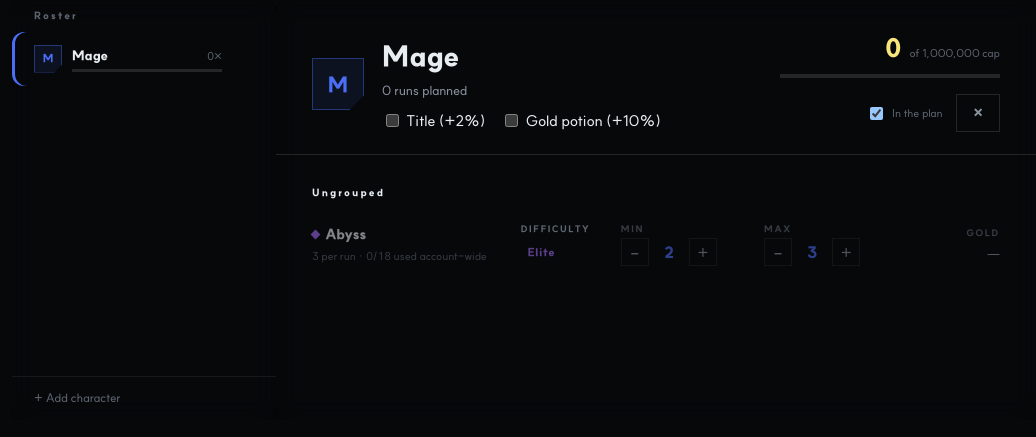
Test: QuestLog cells › shows the new difficulty before the write lands
This screenshot has width=1036, height=437.
What coordinates should you click on to do the following:
click the button with aria-label "Mage tier in Abyss"
I would click on:
 (553, 253)
Its box is x1=521 y1=239 x2=585 y2=266.
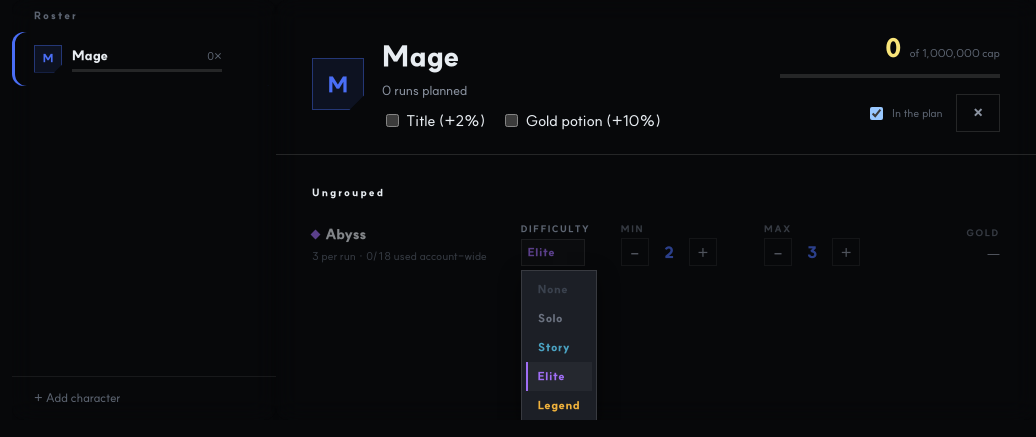
What coordinates should you click on to do the following:
click the button with aria-label "Abyss at legend"
I would click on:
 (559, 406)
Its box is x1=526 y1=392 x2=592 y2=420.
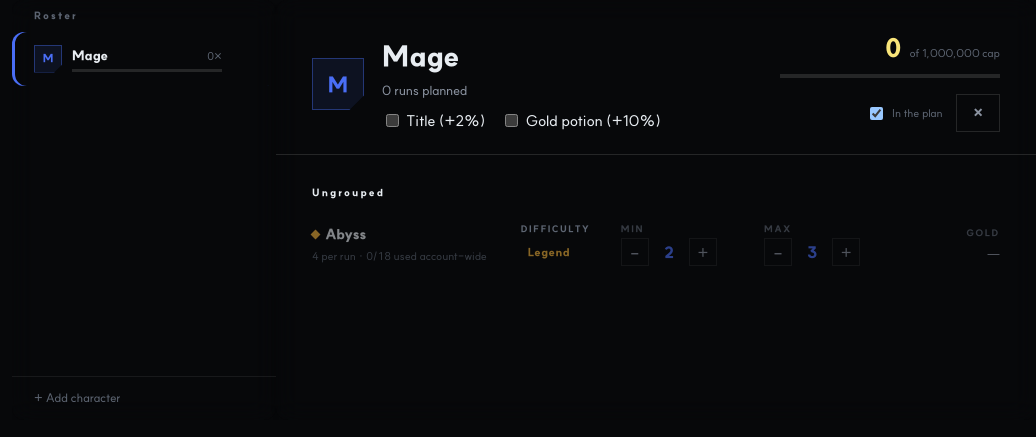
Expected: the button with aria-label "Mage tier in Abyss" reads "legend", x1=521 y1=239 x2=585 y2=266
